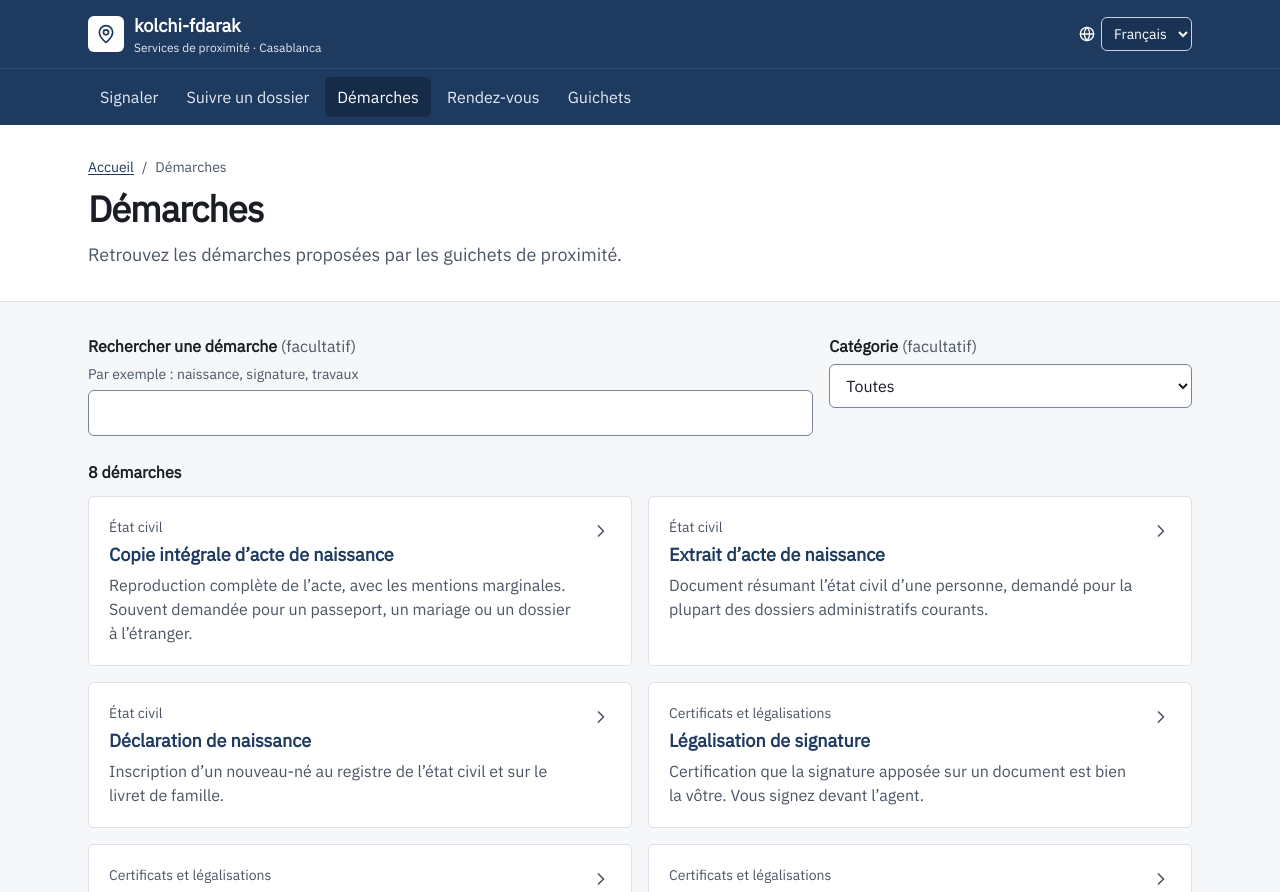
it: catalogue des démarches › propose l'orientation quand rien ne correspond
Type "passeport biométrique" into the search field labelled "Rechercher une démarche (facultatif)" at (451, 413), box [88, 390, 813, 436]
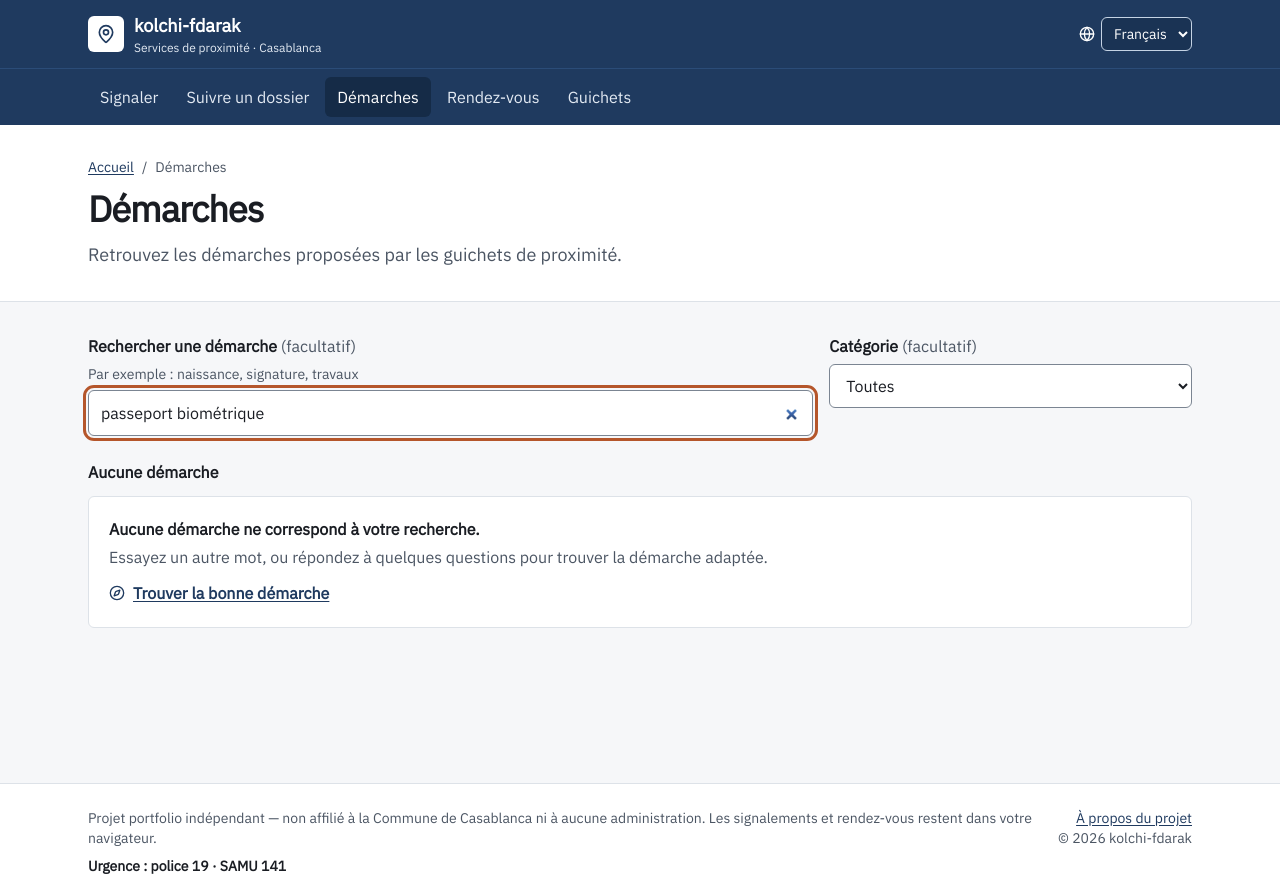
Result: the message reads "Aucune démarche" at [88, 462, 218, 482]
